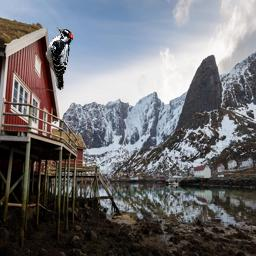Woodpecker: (45, 27, 74, 90)
